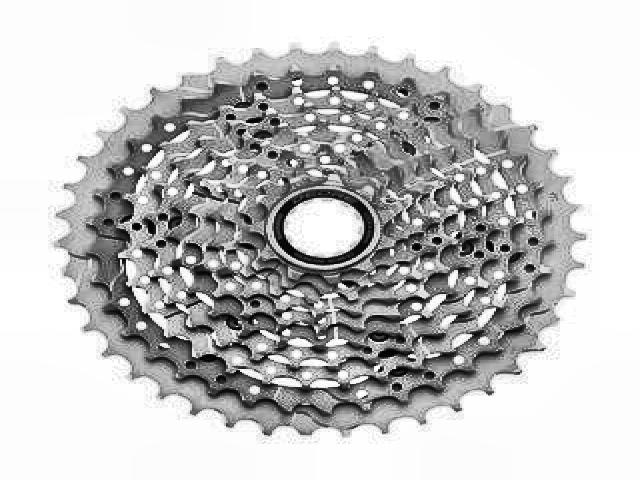cassette: (56, 42, 586, 436)
